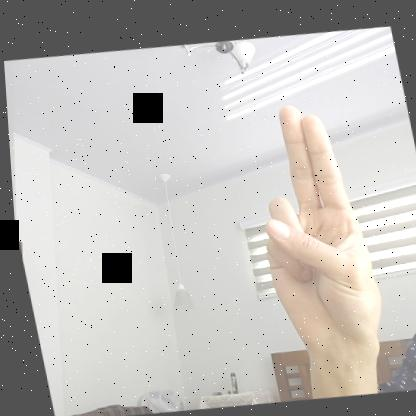U: (232, 91, 390, 358)
